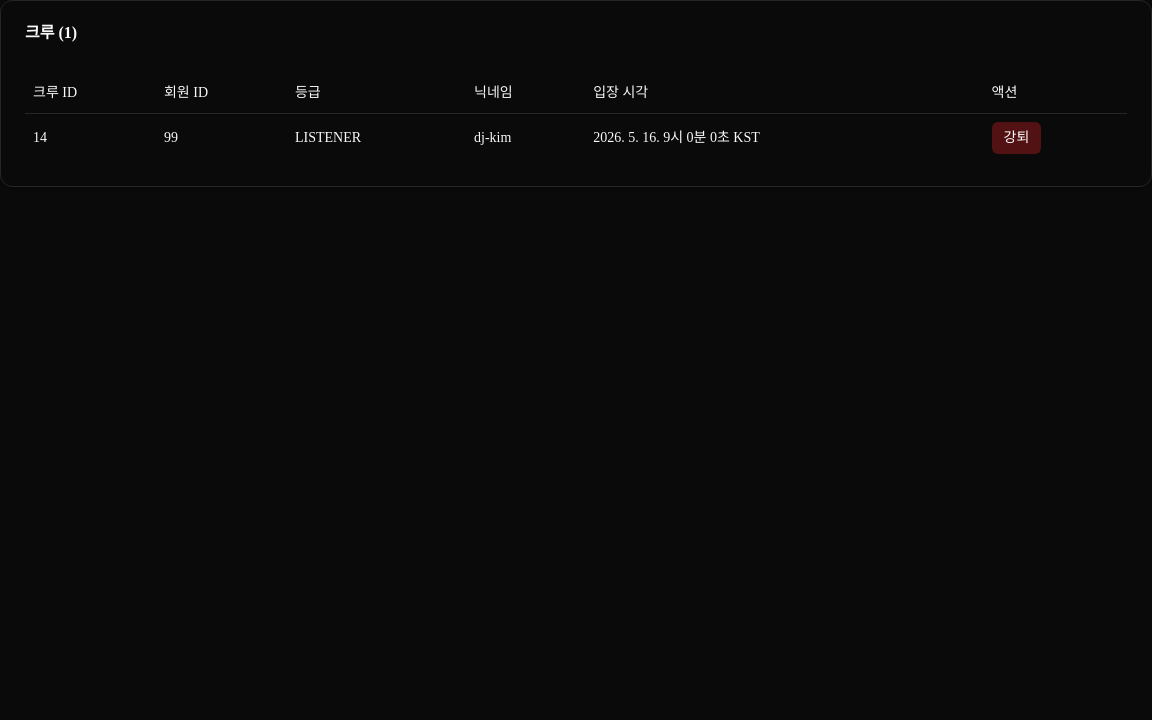
Test: CrewCard › non-HOST row: clicking opens dialog with crew label
This screenshot has width=1152, height=720.
Click the button "강퇴": (1016, 138) [992, 122, 1041, 154]
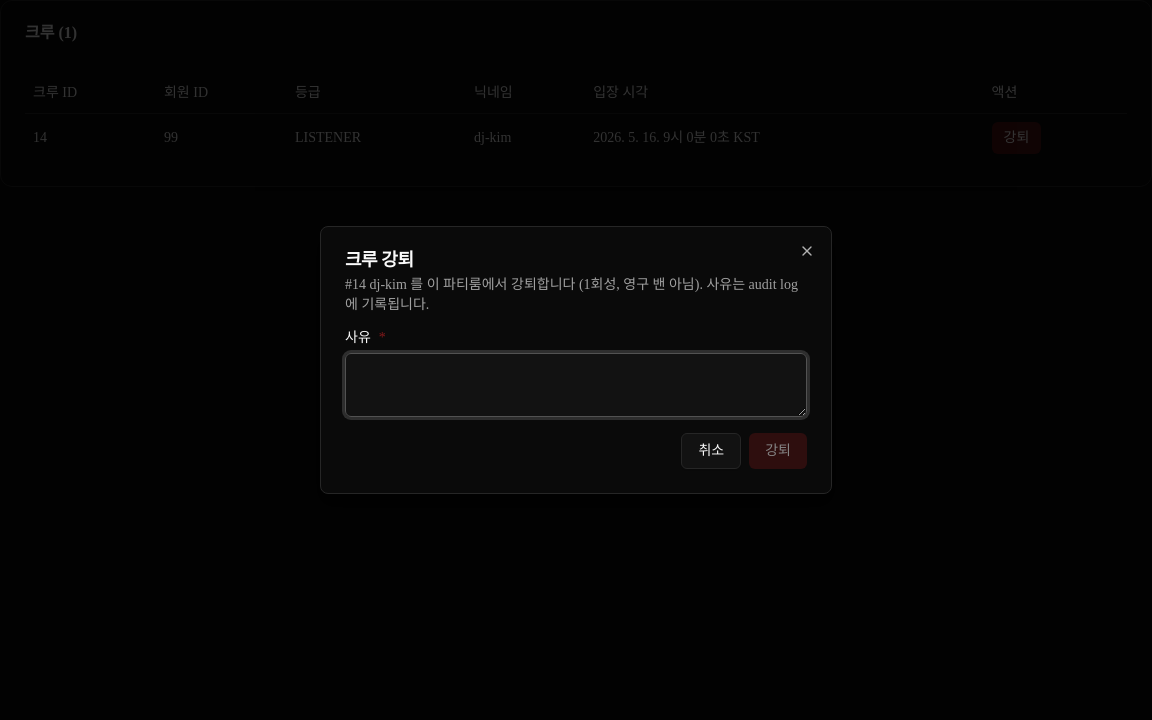
Check: the dialog is shown, box [320, 226, 832, 494]
Check: the text "#14 dj-kim" is shown, box [345, 277, 407, 292]
